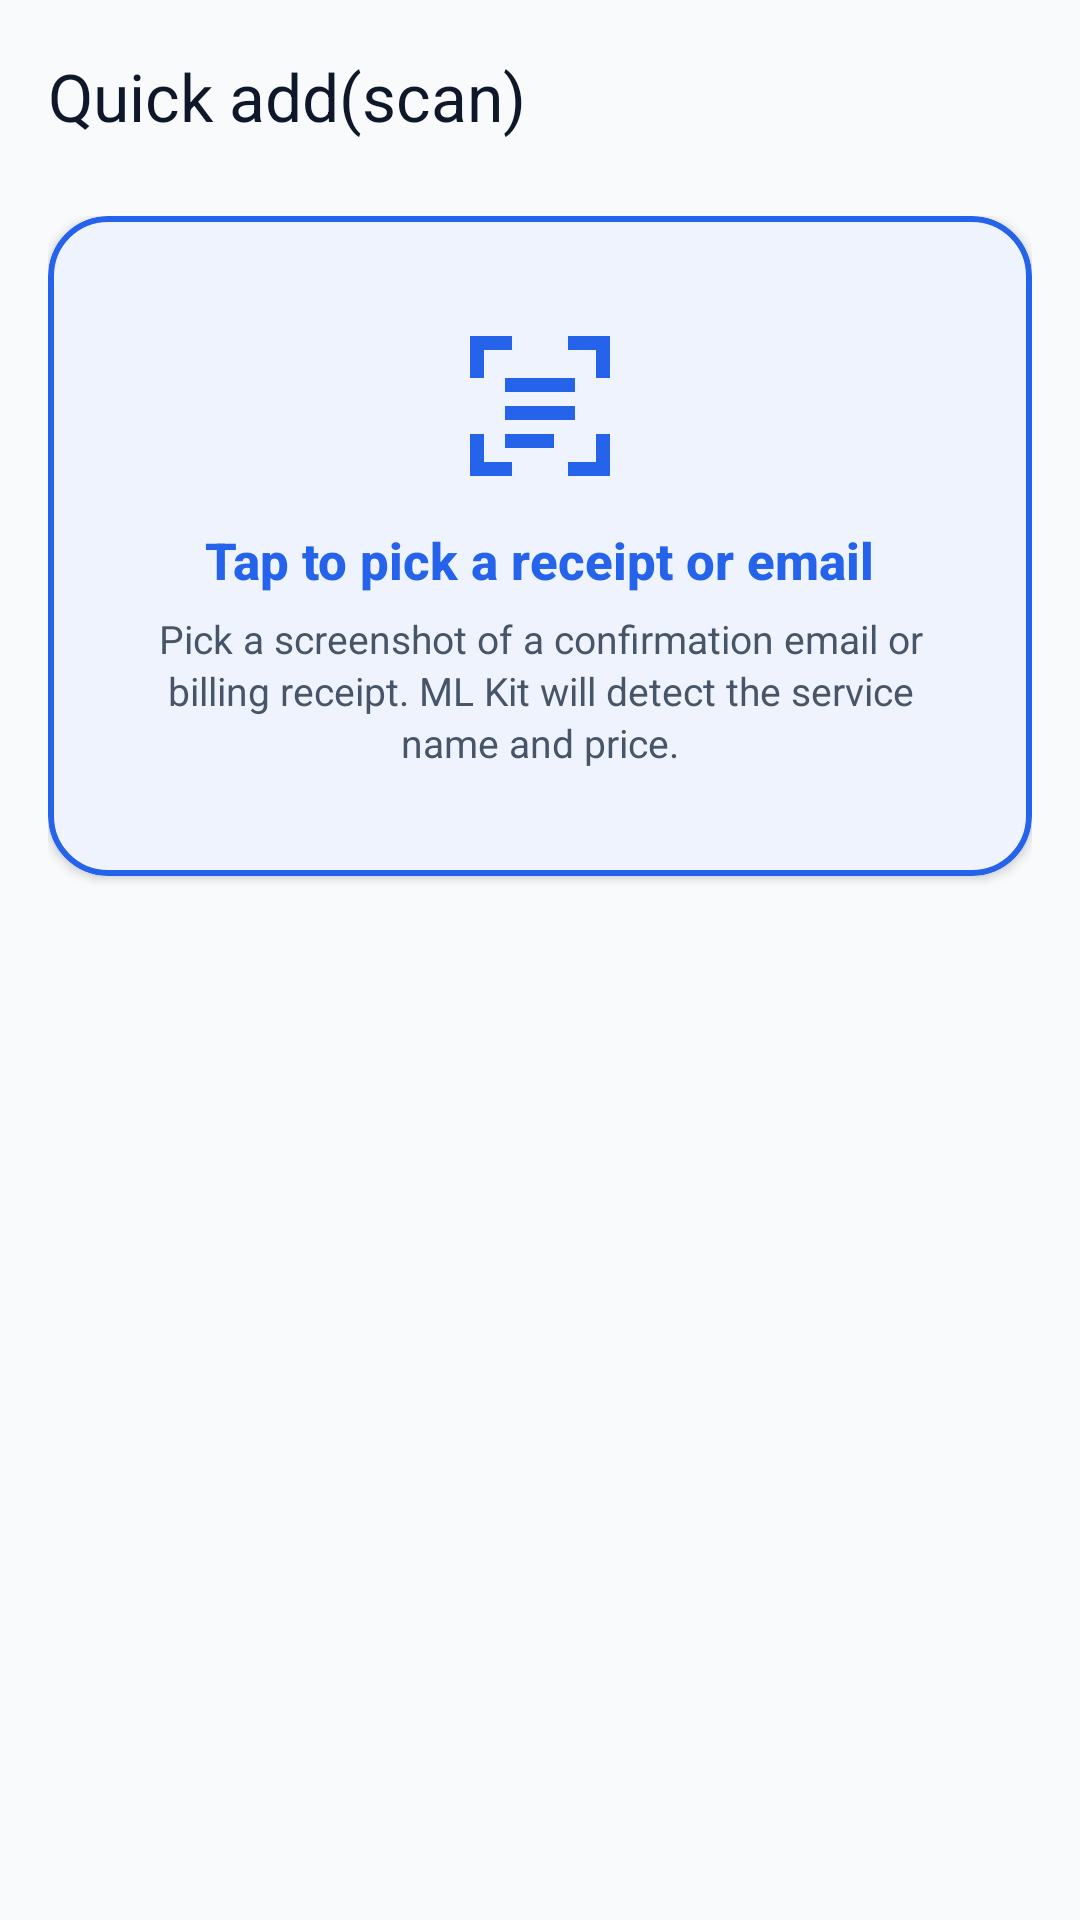

Icons on this 1080px x 1920px Android screen, each with the point to tap as [x,y]:
Scanner icon: [540,406]
